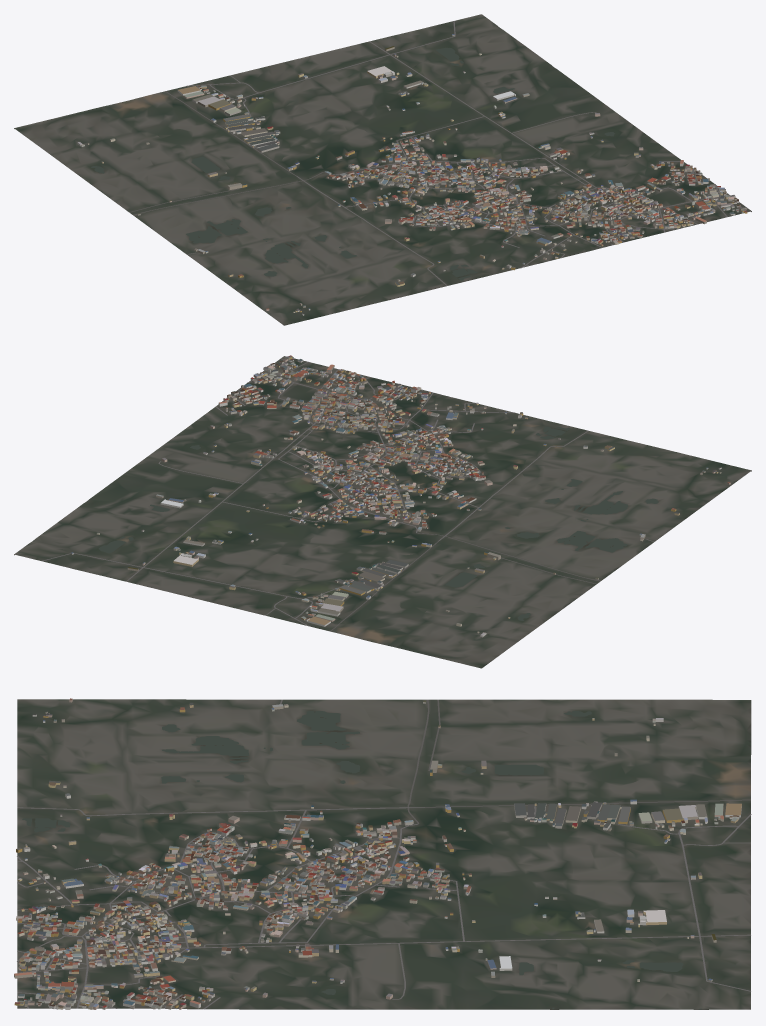
3 views of the same model, one above another, from view 1: azimuth 30°, elevation 25°; view 2: azimuth 150°, elevation 25°; view 3: azimuth 270°, elevation 25° (orthographic). The views are drawn at different scales.
Visible parts, largest first — view 1: ground, buildings, roads, water; view 2: ground, buildings, roads, water; view 3: ground, buildings, roads, water.
Part boxes in pixels (x1=…): ground: x1=14, y1=14, x2=751, y2=325; buildings: x1=77, y1=34, x2=747, y2=315; roads: x1=129, y1=21, x2=748, y2=285; water: x1=91, y1=27, x2=614, y2=280; ground: x1=14, y1=356, x2=751, y2=668; buildings: x1=70, y1=355, x2=730, y2=637; roads: x1=42, y1=358, x2=654, y2=631; water: x1=33, y1=426, x2=658, y2=620; ground: x1=17, y1=699, x2=751, y2=1009; buildings: x1=14, y1=698, x2=741, y2=1009; roads: x1=17, y1=699, x2=751, y2=1009; water: x1=22, y1=711, x2=701, y2=1009.
Size of the model in its own units: 1406 by 15.72 by 1410.
